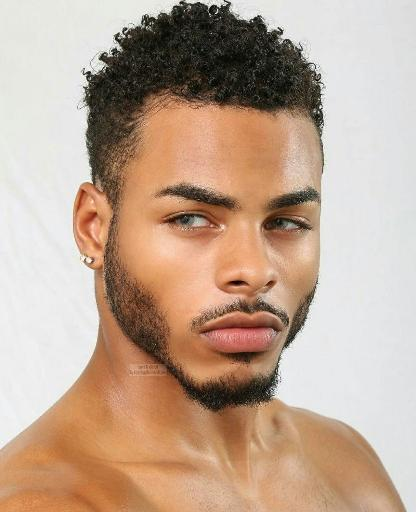left_eye: (262, 216, 311, 238)
left_lip_corner: (272, 319, 286, 338)
right_eye: (158, 210, 223, 235)
right_lip_corner: (196, 324, 213, 345)
